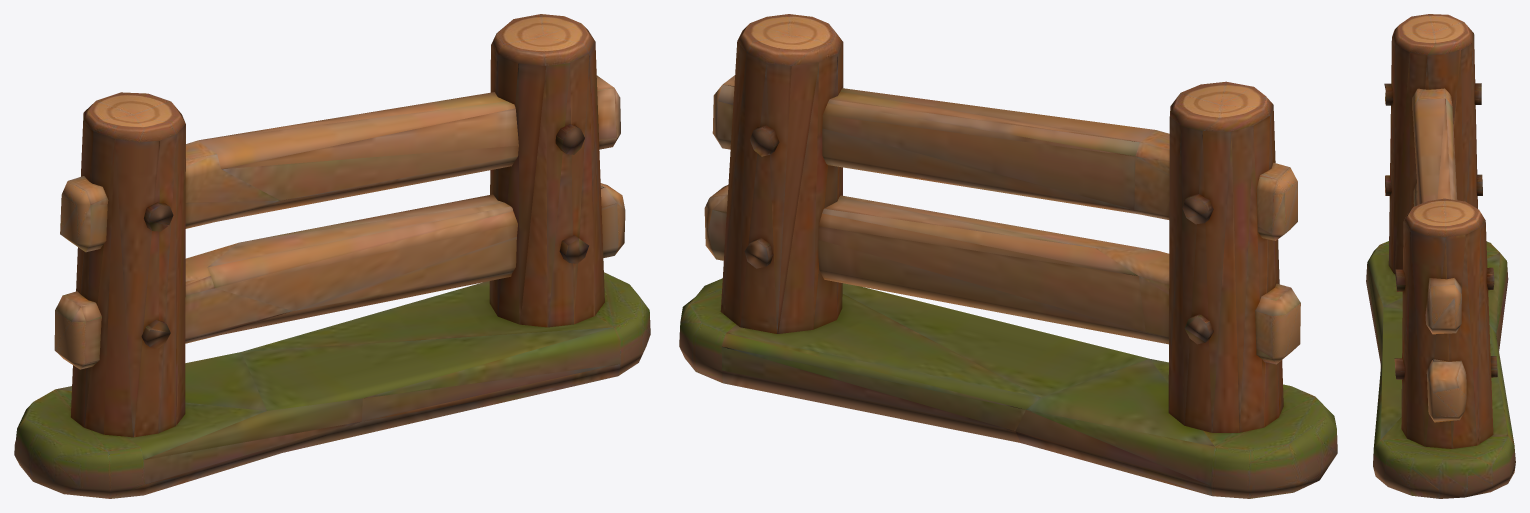
Rendered from fence.glb.
3 views of the same model, side by side, from view 1: azimuth 30°, elevation 25°; view 2: azimuth 150°, elevation 25°; view 3: azimuth 270°, elevation 25° (orthographic). The views are drawn at different scales.
Parts seen in each view (by area): view 1: hull; view 2: hull; view 3: hull.
Part boxes in pixels (left/top/right/bottom): hull: left=14, top=14, right=650, bottom=498; hull: left=679, top=14, right=1337, bottom=498; hull: left=1366, top=14, right=1515, bottom=498.
Bounding box in the file's own units: 1 × 0.5475 × 0.2695.
Materials: 1 (1 with a texture image).
